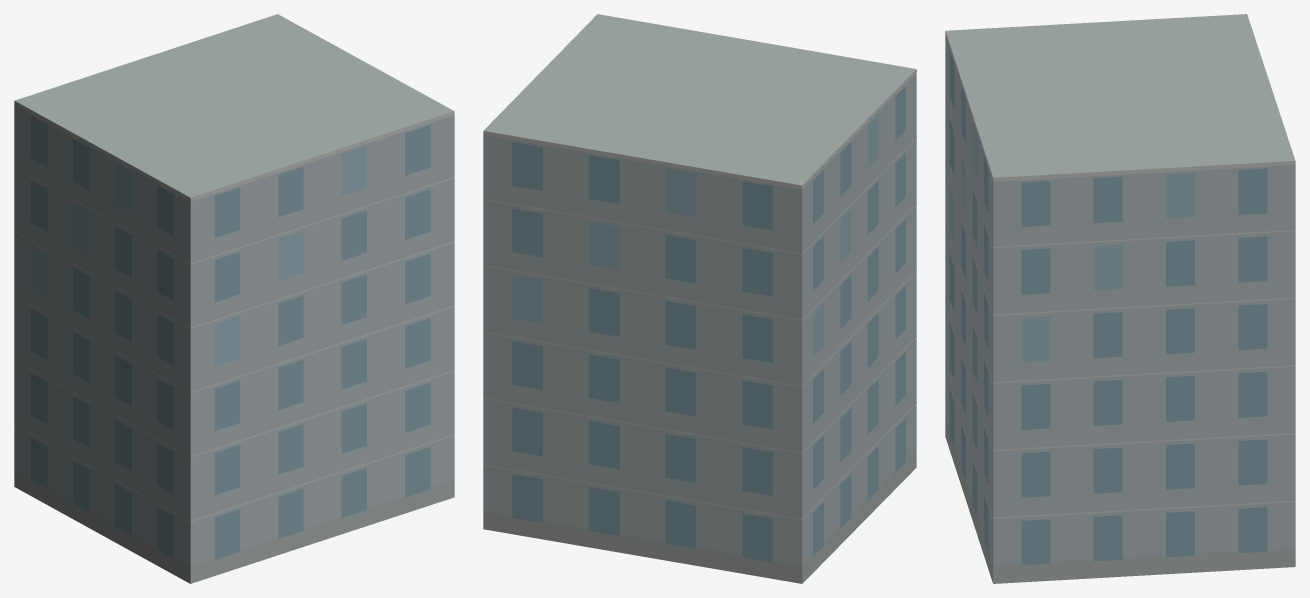
Rendered from survey-upis-32520196.glb.
The picture shows the model from 3 angles, left to right: view 1: azimuth 30°, elevation 25°; view 2: azimuth 150°, elevation 25°; view 3: azimuth 270°, elevation 25°; orthographic projection. The views are drawn at different scales.
Visible parts, largest first — view 1: survey-upis-32520196.tmp; view 2: survey-upis-32520196.tmp; view 3: survey-upis-32520196.tmp.
Part boxes in pixels (x1,y1,x2,y2): survey-upis-32520196.tmp: (14,14,454,583); survey-upis-32520196.tmp: (483,14,916,583); survey-upis-32520196.tmp: (945,14,1295,583).
Bounding box in the file's own units: 20.36 × 23.5 × 18.39.
